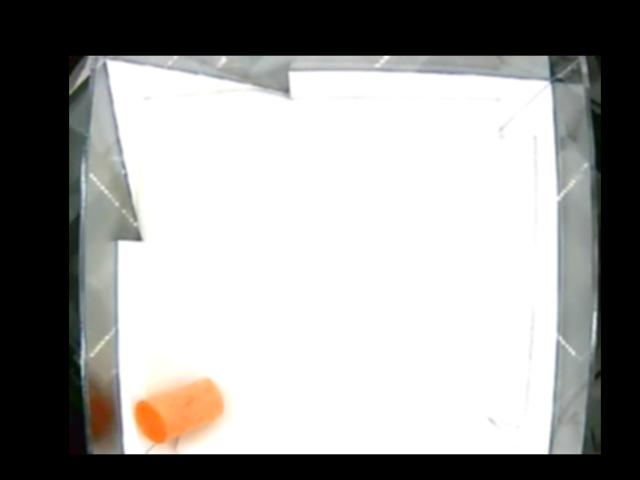Carrot: (133, 376, 222, 444)
